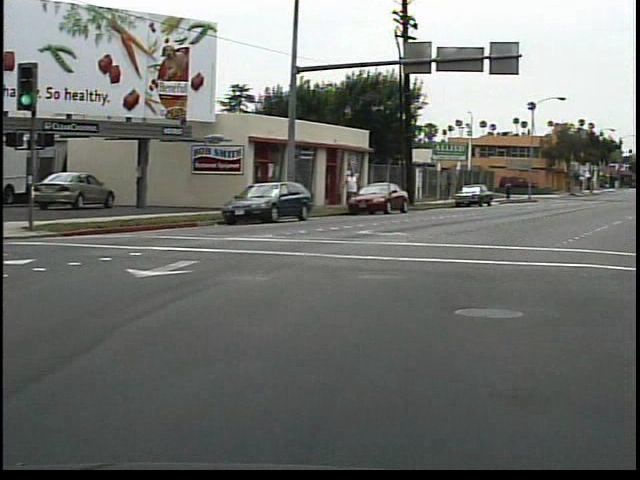person: (344, 164, 367, 212), (505, 178, 517, 205)
